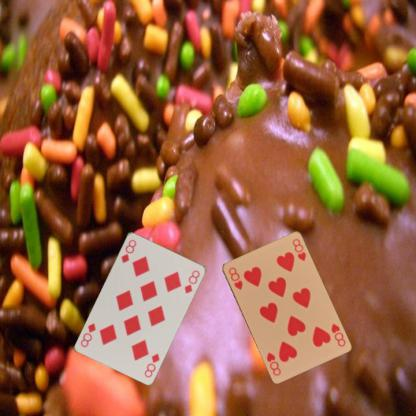8d: (119, 236, 138, 264), (142, 351, 160, 378)
8h: (328, 320, 347, 348), (226, 265, 244, 291)
